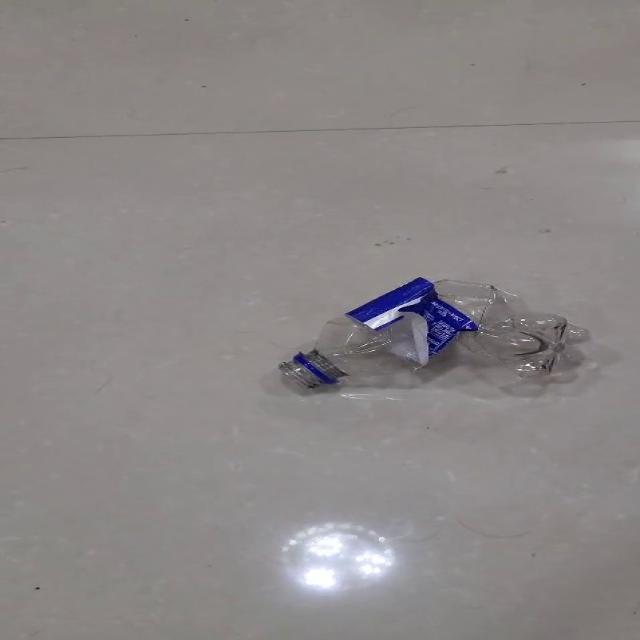plastic: (277, 276, 589, 392)
